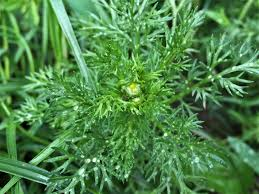pineple: (63, 70, 140, 145)
